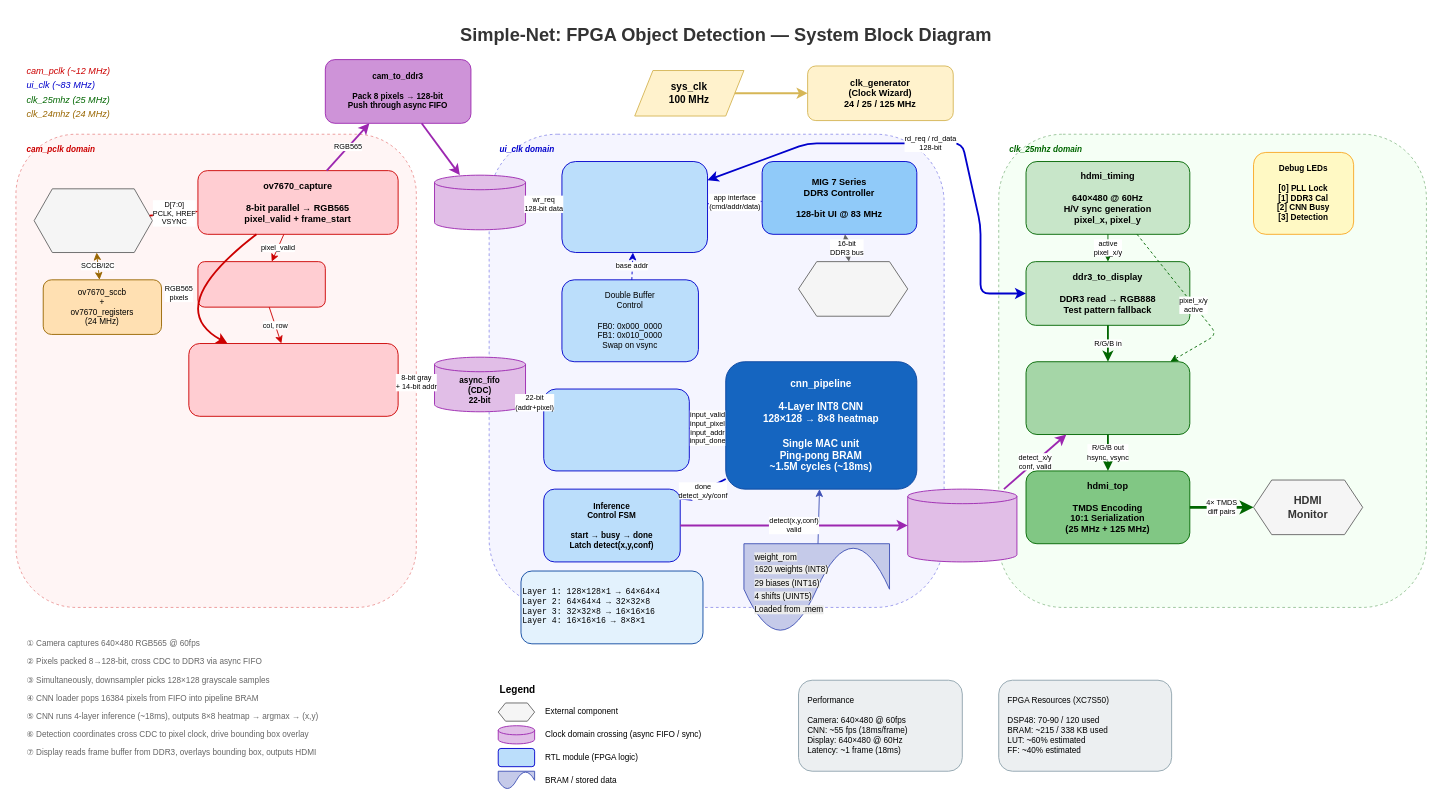
Some shapes in this 1442 by 805 pixel diagram are drawn without their labels. The shapes that lost their labels are listed below. From the top down, each one's box as (x1, y1, x2, y2) in pixels, then its label:
(33, 188, 152, 253): OV7670 Camera
(434, 174, 526, 230): async_fifo (CDC) 156-bit
(561, 161, 708, 253): ddr3_arbiter Priority: 1. Camera (write) 2. Display (read) 3. CNN (unused)
(197, 261, 325, 307): Pixel Position Tracker (col, row counters)
(798, 261, 908, 316): DDR3L SDRAM 256 MB
(188, 343, 398, 416): downsample_128 640×480 RGB565 → 128×128 grayscale (nearest-neighbor)
(1025, 361, 1190, 435): bbox_overlay Green 2px border 80×60 box at detection Confidence threshold
(543, 388, 689, 471): CNN Input Loader FSM Pops FIFO → pipeline Counts 16384 pixels Asserts input_done
(907, 488, 1017, 562): Double-FF CDC Sync detect_x/y/conf detect_valid
